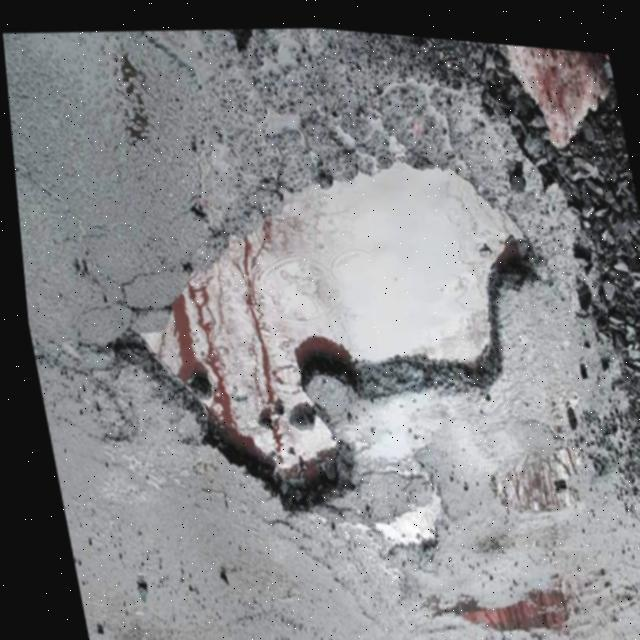pothole: (86, 103, 594, 554)
